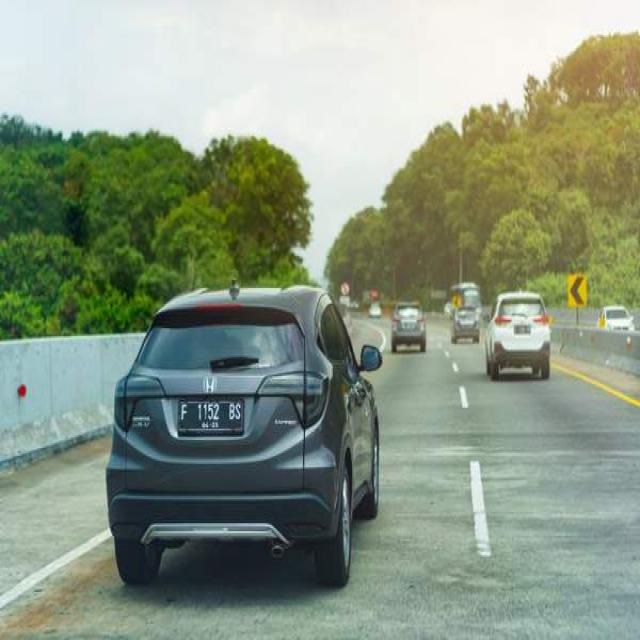plate: (179, 398, 243, 434), (514, 325, 530, 334), (403, 325, 413, 331), (464, 323, 471, 328)
